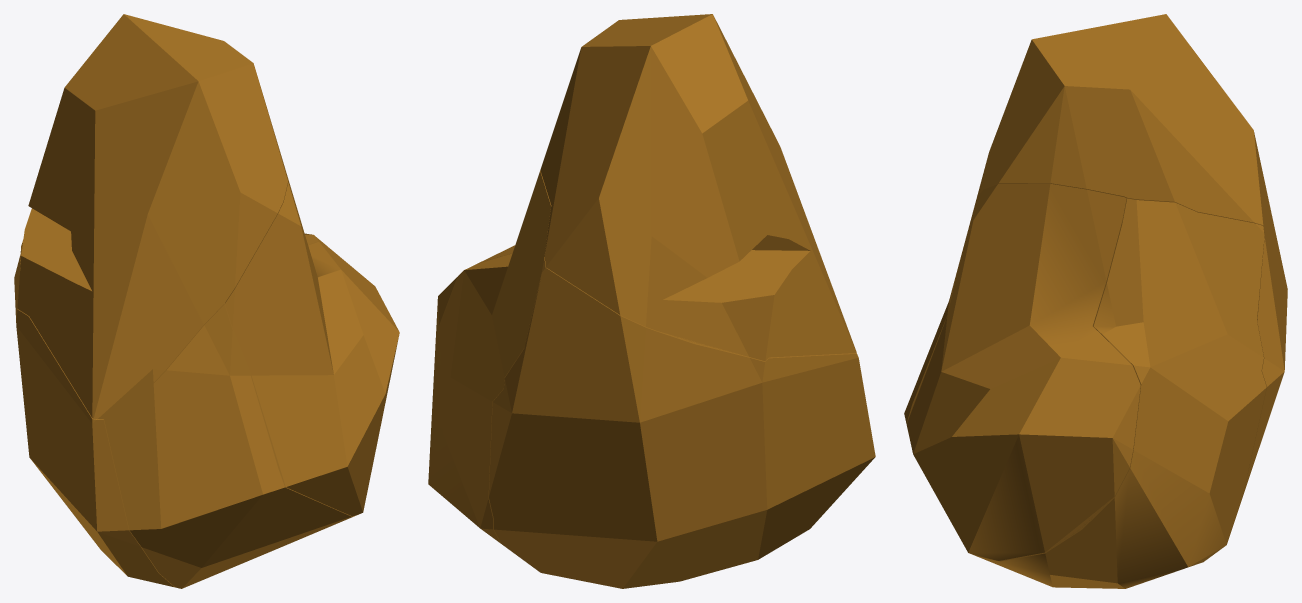
Rendered from DesertRock4Crack.fbx.
3 renders of one model, left to right at view 1: azimuth 30°, elevation 25°; view 2: azimuth 150°, elevation 25°; view 3: azimuth 270°, elevation 25°, orthographic. The views are drawn at different scales.
Visible parts, largest first — view 1: DesertRock4Crack_cell, DesertRock4Crack_cell.002, DesertRock4Crack_cell.003, DesertRock4Crack_cell.001; view 2: DesertRock4Crack_cell.001, DesertRock4Crack_cell, DesertRock4Crack_cell.002, DesertRock4Crack_cell.003; view 3: DesertRock4Crack_cell.003, DesertRock4Crack_cell.002, DesertRock4Crack_cell, DesertRock4Crack_cell.001.
Part boxes in pixels (x1,y1,x2,y2): DesertRock4Crack_cell: [17, 14, 287, 419]; DesertRock4Crack_cell.002: [104, 233, 353, 588]; DesertRock4Crack_cell.003: [225, 155, 399, 516]; DesertRock4Crack_cell.001: [14, 251, 174, 587]; DesertRock4Crack_cell.001: [489, 268, 875, 588]; DesertRock4Crack_cell: [540, 14, 856, 361]; DesertRock4Crack_cell.002: [428, 170, 551, 543]; DesertRock4Crack_cell.003: [435, 245, 514, 339]; DesertRock4Crack_cell.003: [906, 183, 1140, 560]; DesertRock4Crack_cell.002: [904, 198, 1266, 588]; DesertRock4Crack_cell: [969, 14, 1271, 226]; DesertRock4Crack_cell.001: [1201, 213, 1287, 562].
Bounding box in the file's own units: 146 × 211 × 140.
